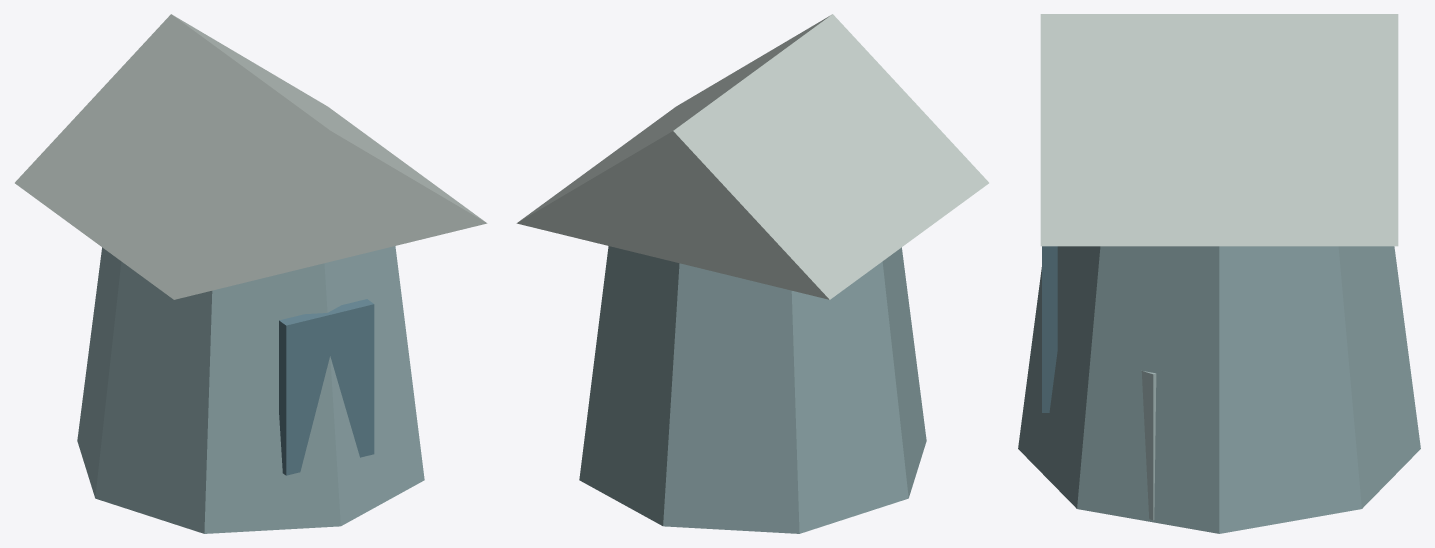
File: map-exclusive-v3__frost_04.glb
3 views of the same model, side by side, from view 1: azimuth 30°, elevation 25°; view 2: azimuth 150°, elevation 25°; view 3: azimuth 270°, elevation 25° (orthographic). The views are drawn at different scales.
Visible parts, largest first — view 1: frost_04; view 2: frost_04; view 3: frost_04.
Boxes of the visible parts, x1,y1,x2,y2 form: frost_04: (15,14,487,533); frost_04: (516,14,988,533); frost_04: (1018,14,1420,533).
Size of the model in its own units: 1.53 by 1.81 by 1.52.
